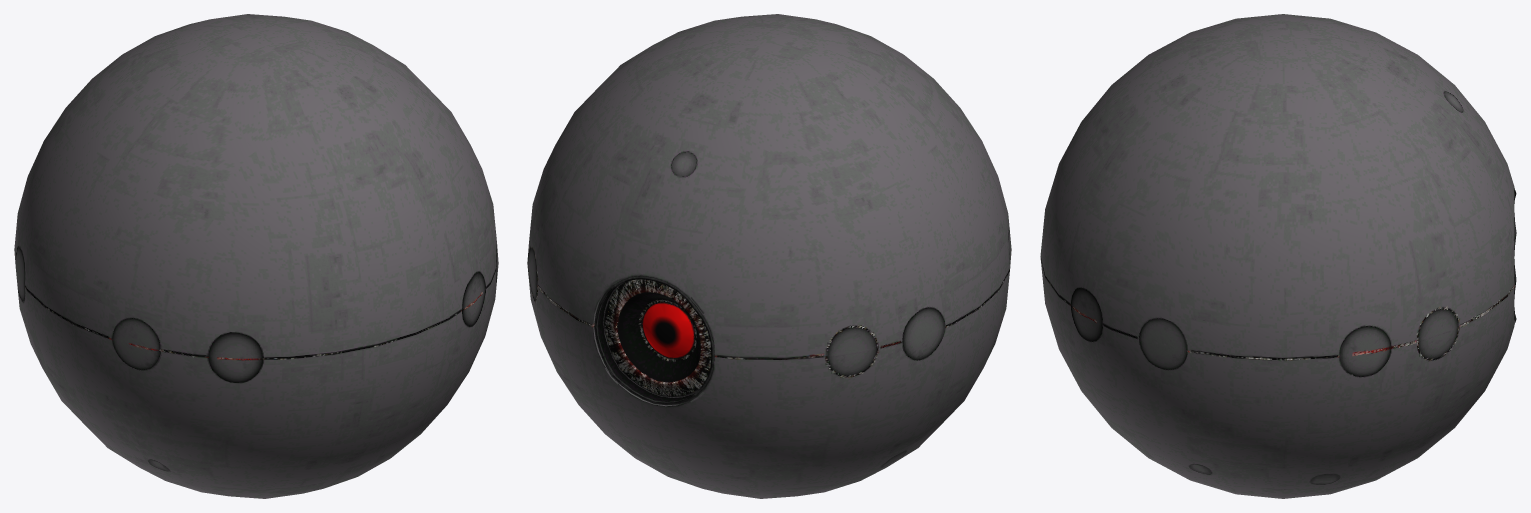
Rendered from tgef_01_ion_cannon.obj.
The picture shows the model from 3 angles, left to right: view 1: azimuth 30°, elevation 25°; view 2: azimuth 150°, elevation 25°; view 3: azimuth 270°, elevation 25°; orthographic projection.
Parts seen in each view (by area): view 1: Sphere; view 2: Sphere; view 3: Sphere.
Part boxes in pixels (<box>): Sphere: <box>14,14,498,498</box>; Sphere: <box>527,14,1011,498</box>; Sphere: <box>1040,14,1516,498</box>.
Bounding box in the file's own units: 0.000153 × 0.000153 × 0.00015.
